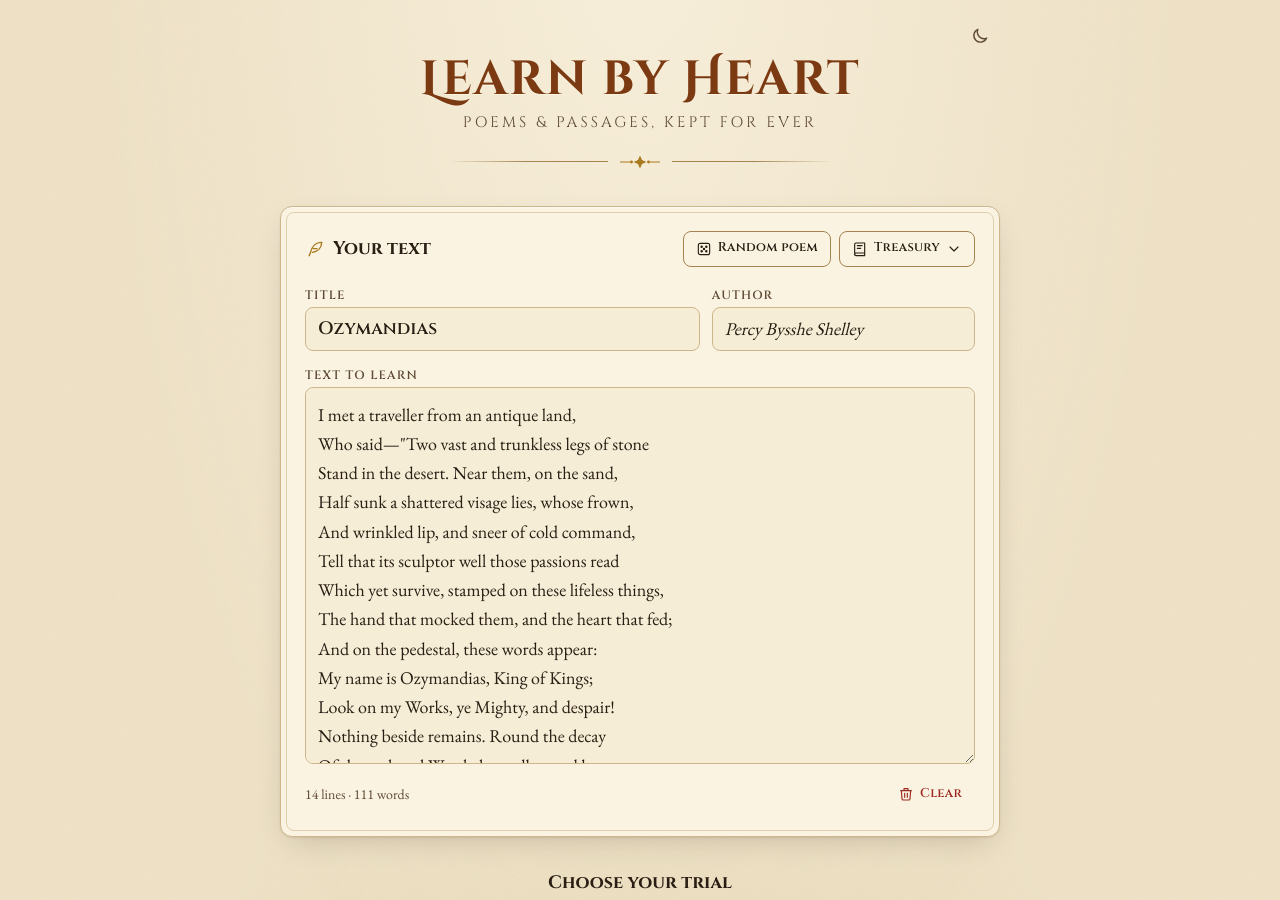
compose screen › loads a passage from the treasury
Click the button "Treasury" at (907, 249), box [839,231,975,267]
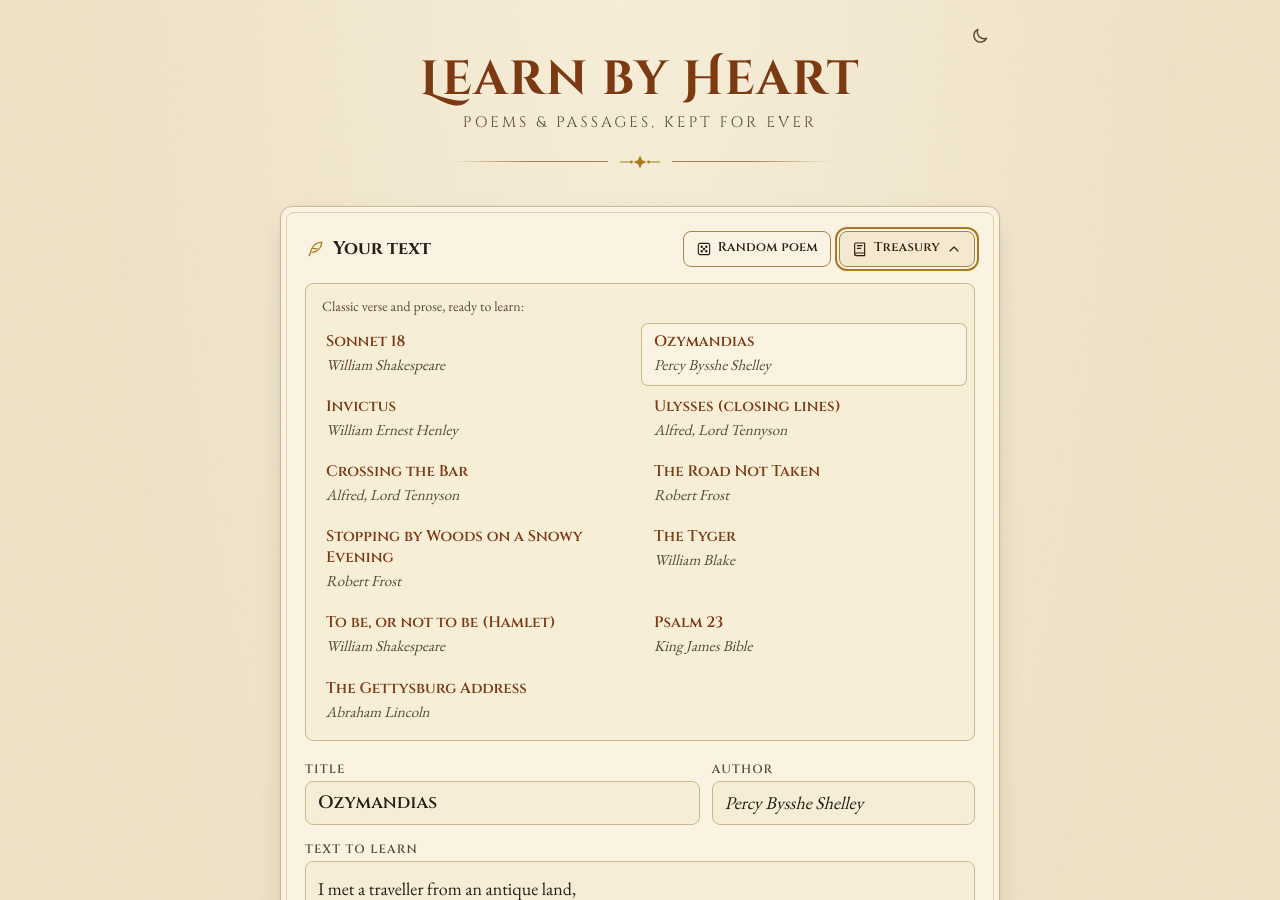
Click the button "Sonnet 18 William Shakespeare" at (366, 341), box [314,324,638,385]
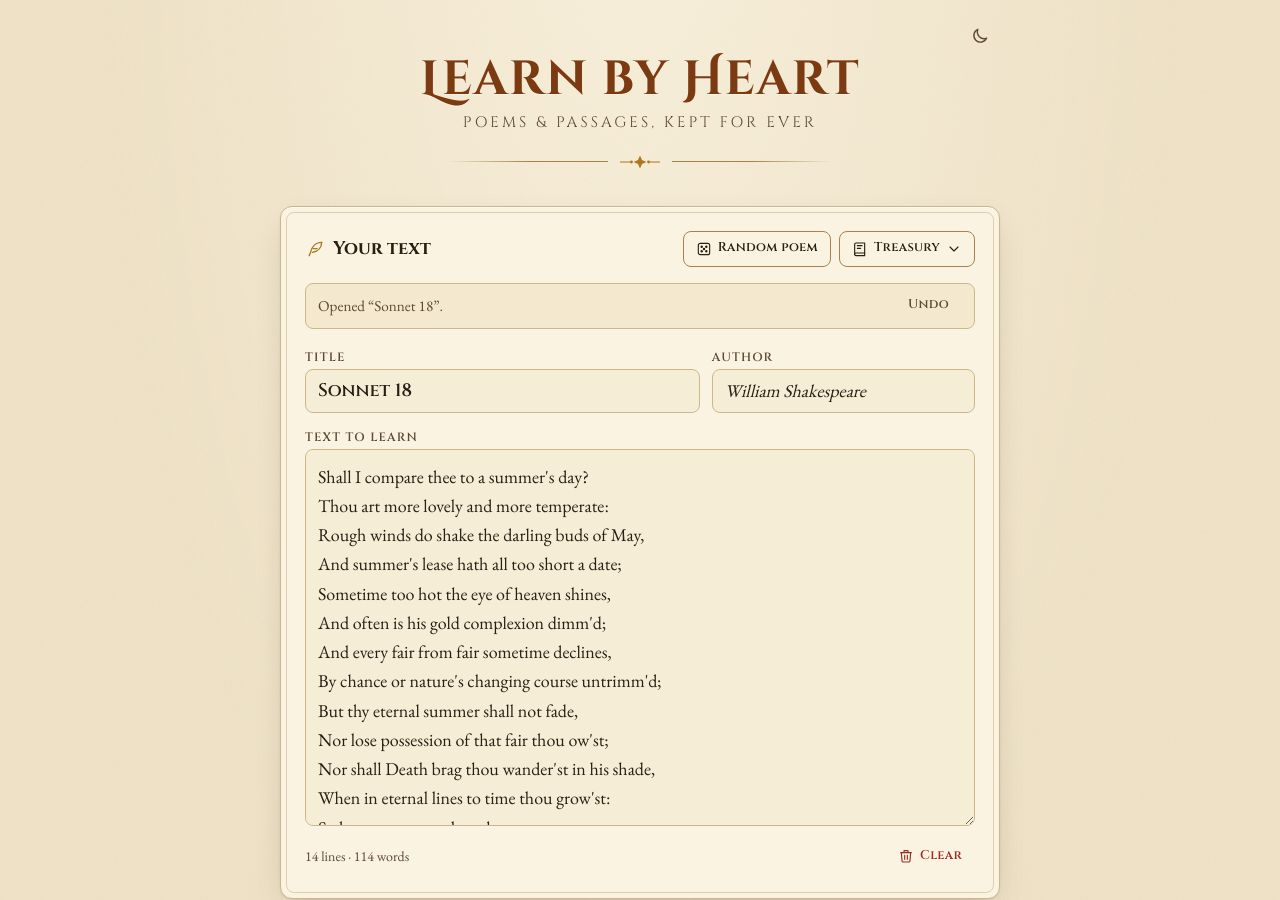
Now the field labelled "Title" holds "Sonnet 18", box [305,369,700,413]
